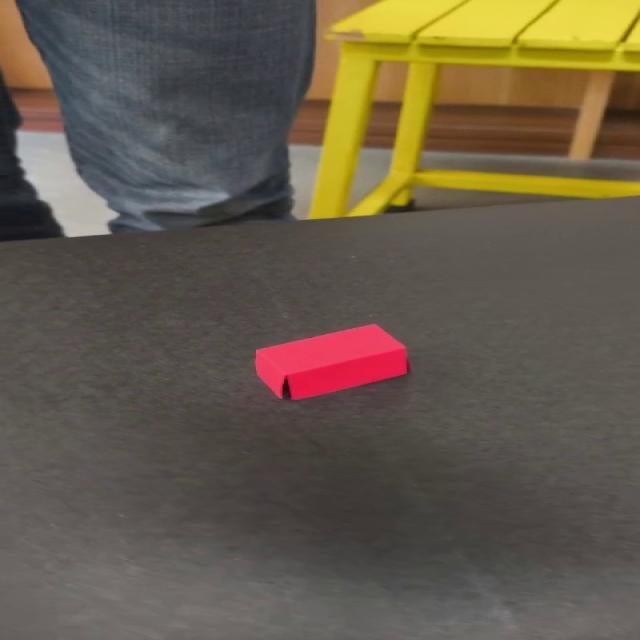red block: (252, 322, 409, 401)
